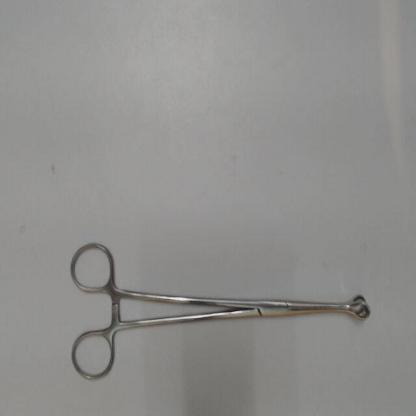8 Babcock Tissue Forceps: (64, 237, 372, 382)
